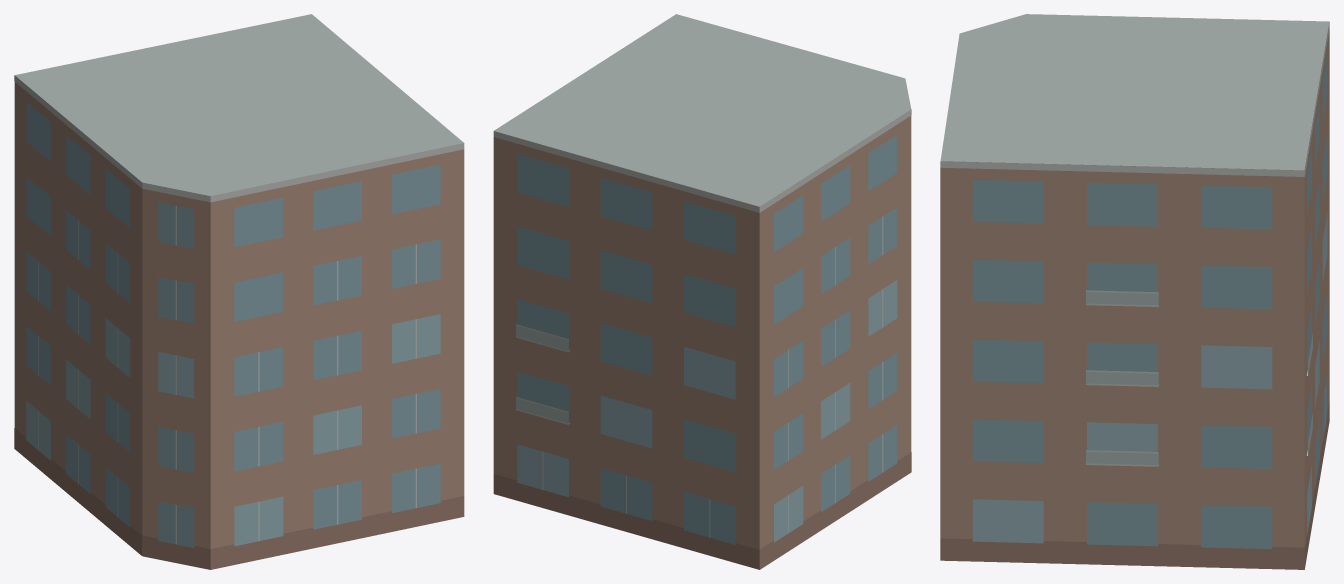
Rendered from survey-upis-32990476.glb.
The picture shows the model from 3 angles, left to right: view 1: azimuth 30°, elevation 25°; view 2: azimuth 150°, elevation 25°; view 3: azimuth 270°, elevation 25°; orthographic projection. The views are drawn at different scales.
Parts seen in each view (by area): view 1: survey-upis-32990476.tmp; view 2: survey-upis-32990476.tmp; view 3: survey-upis-32990476.tmp.
Boxes of the visible parts, x1,y1,x2,y2 form: survey-upis-32990476.tmp: [14, 14, 464, 569]; survey-upis-32990476.tmp: [493, 14, 911, 569]; survey-upis-32990476.tmp: [940, 14, 1329, 569].
Bounding box in the file's own units: 12.4 × 14.75 × 13.03.
